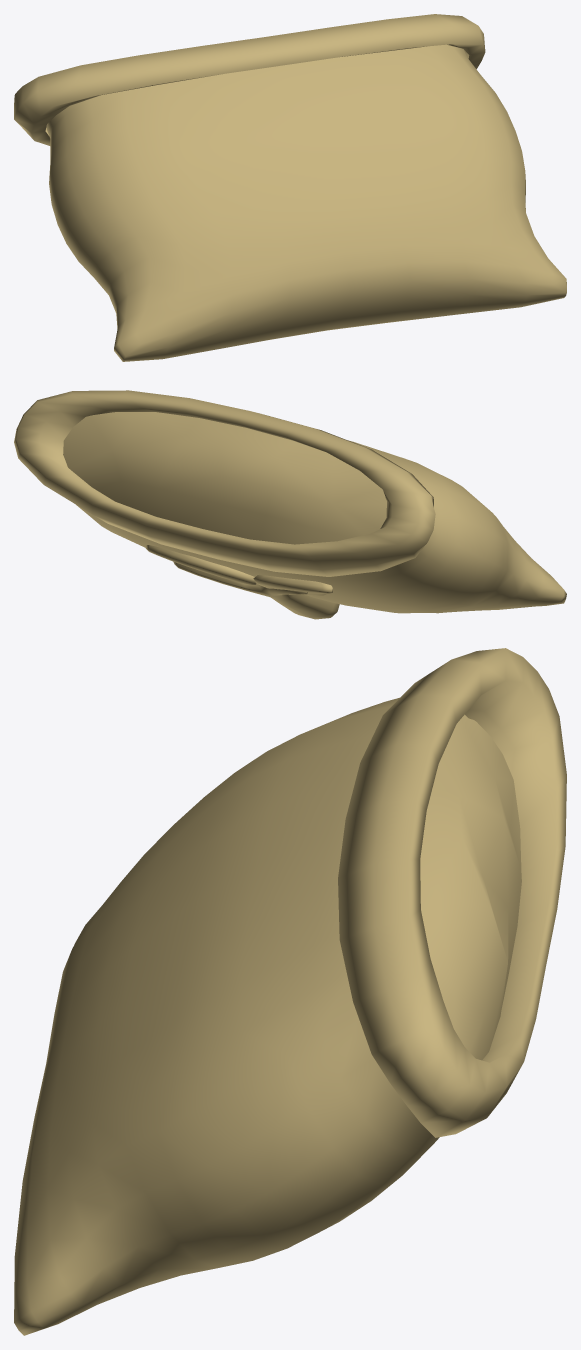
File: Fertilizer-Large-Shadow.fbx
3 renders of one model, top to bottom at view 1: azimuth 30°, elevation 25°; view 2: azimuth 150°, elevation 25°; view 3: azimuth 270°, elevation 25°, orthographic. The views are drawn at different scales.
Parts seen in each view (by area): view 1: Fertilizer-Large-Shadow; view 2: Fertilizer-Large-Shadow; view 3: Fertilizer-Large-Shadow.
Part boxes in pixels (x1,y1,x2,y2): Fertilizer-Large-Shadow: [14, 14, 566, 361]; Fertilizer-Large-Shadow: [14, 390, 566, 619]; Fertilizer-Large-Shadow: [14, 648, 566, 1335].
Size of the model in its own units: 10.57 by 5.11 by 6.39.
